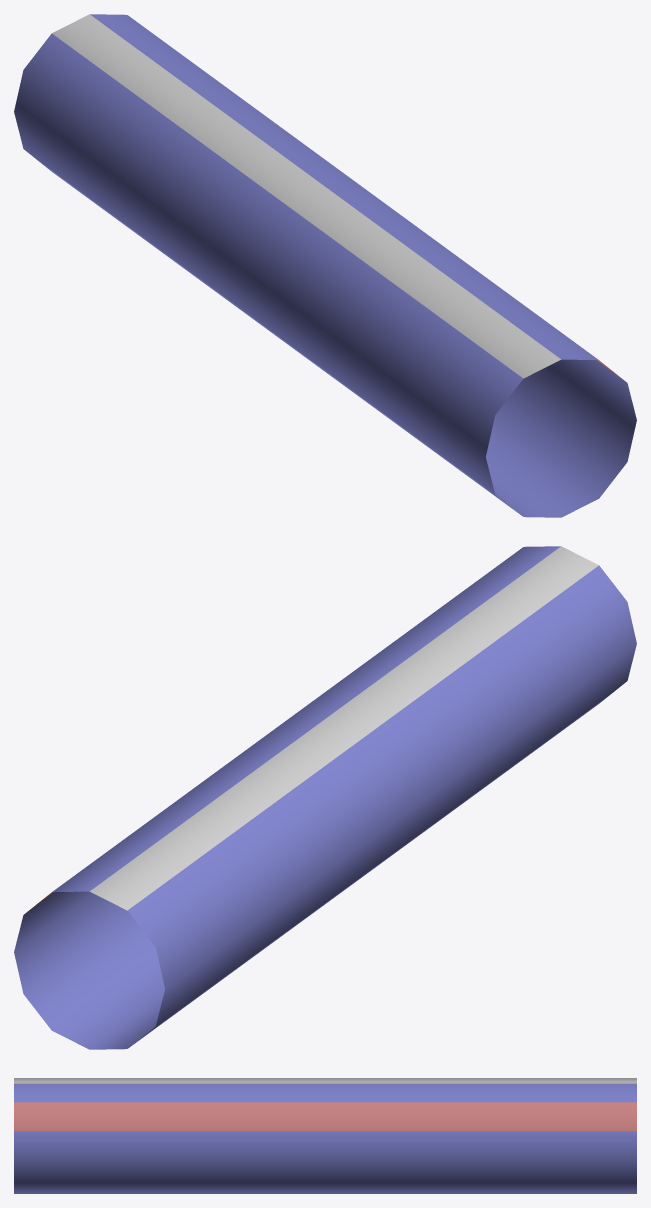
The picture shows the model from 3 angles, top to bottom: view 1: azimuth 30°, elevation 25°; view 2: azimuth 150°, elevation 25°; view 3: azimuth 270°, elevation 25°; orthographic projection. The views are drawn at different scales.
Visible parts, largest first — view 1: test.obj; view 2: test.obj; view 3: test.obj.
Boxes of the visible parts, bbox=[...] form: test.obj: bbox=[14, 14, 636, 517]; test.obj: bbox=[14, 546, 636, 1049]; test.obj: bbox=[14, 1078, 636, 1193].
Size of the model in its own units: 11.52 by 11.52 by 62.26.
